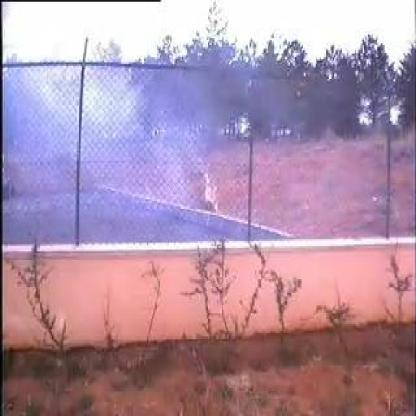-: (48, 68, 228, 239)
